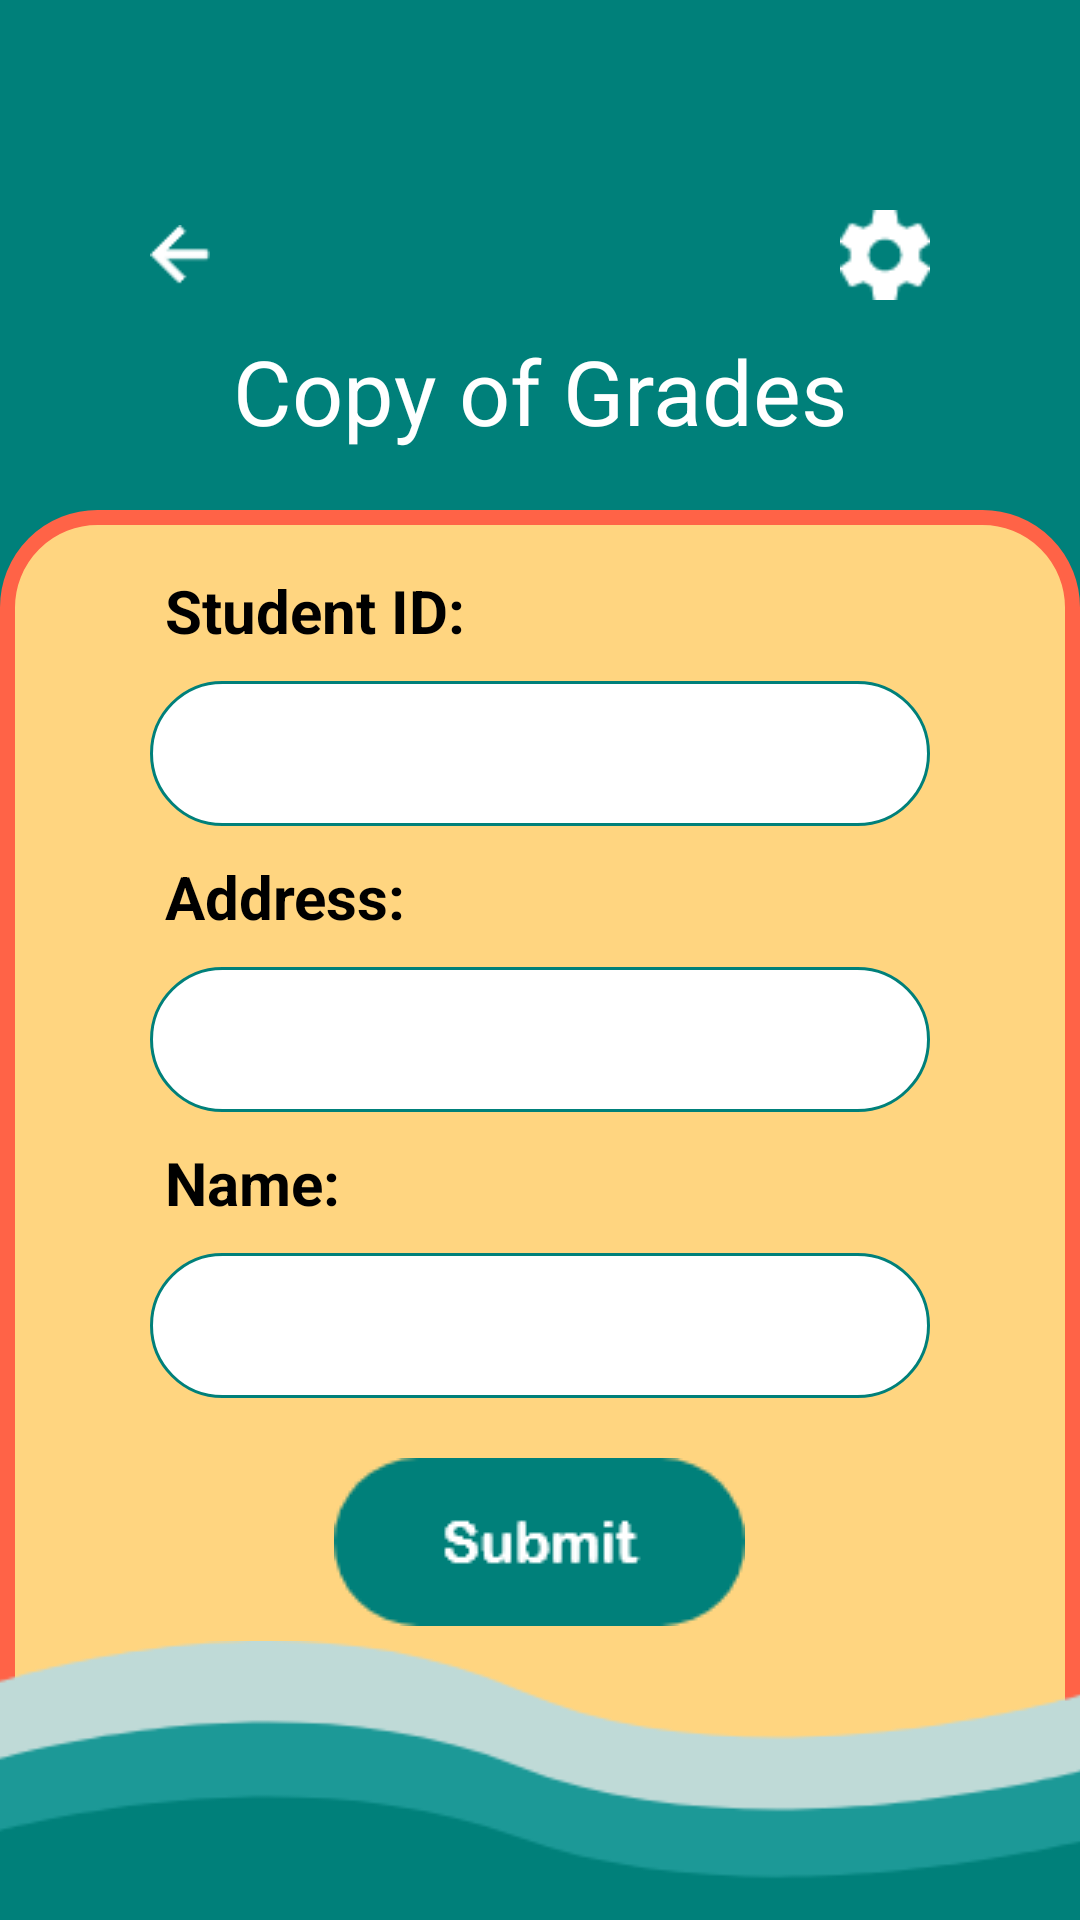

Screen size 1080px x 1920px. Icon name, then its center in pixels as [x,y]:
arrow back: [180,254]
settings: [885,255]
